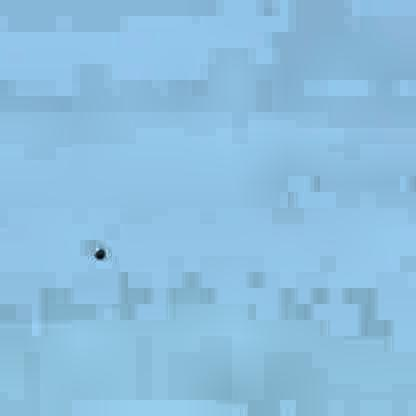golfball: (92, 241, 105, 257)
